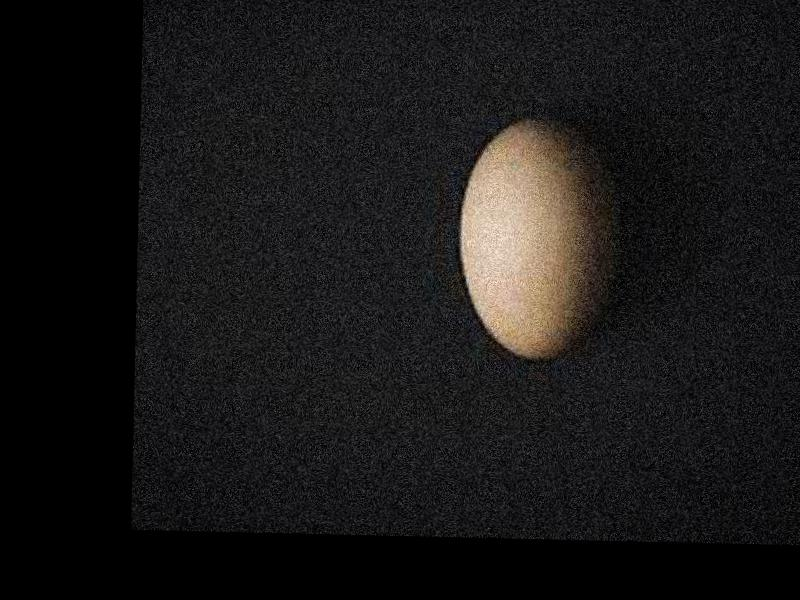Eggs: (457, 113, 617, 366)
